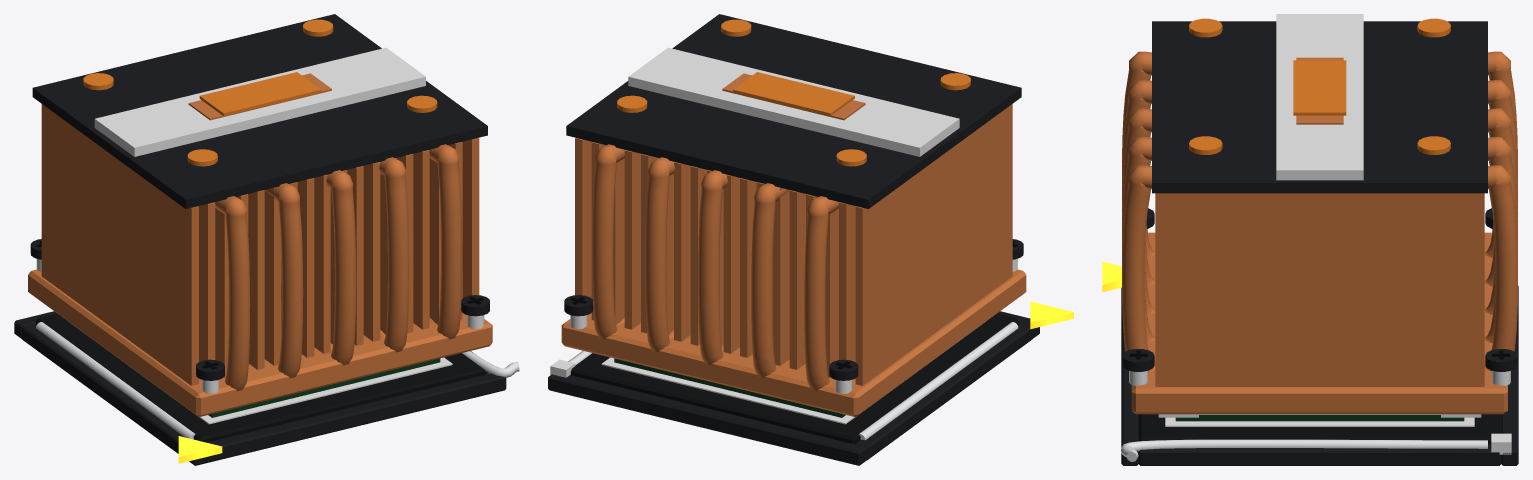
Rendered from hwm_cpu_epyc_9654.glb.
The picture shows the model from 3 angles, left to right: view 1: azimuth 30°, elevation 25°; view 2: azimuth 150°, elevation 25°; view 3: azimuth 270°, elevation 25°; orthographic projection. The views are drawn at different scales.
Parts seen in each view (by area): view 1: Cooler, Socket, CPU, Screw_3, Screw_1, Lever; view 2: Cooler, Socket, CPU, Screw_0, Screw_2; view 3: Cooler, Socket, Lever, CPU, Screw_2, Screw_3, Frame.
Part boxes in pixels (<box>): Cooler: <box>28,14,492,416</box>; Socket: <box>14,311,506,465</box>; CPU: <box>208,358,440,417</box>; Screw_3: <box>461,295,489,329</box>; Screw_1: <box>196,359,224,393</box>; Lever: <box>462,351,519,377</box>; Cooler: <box>561,14,1026,416</box>; Socket: <box>548,301,1073,465</box>; CPU: <box>614,358,845,417</box>; Screw_0: <box>829,359,858,393</box>; Screw_2: <box>564,295,593,329</box>; Cooler: <box>1122,14,1517,414</box>; Socket: <box>1102,261,1518,465</box>; Lever: <box>1121,439,1487,461</box>; CPU: <box>1175,415,1464,421</box>; Screw_2: <box>1485,349,1517,385</box>; Screw_3: <box>1122,349,1154,385</box>; Frame: <box>1158,414,1481,417</box>.
Bounding box in the file's own units: 0.1338 × 0.098 × 0.1239.
